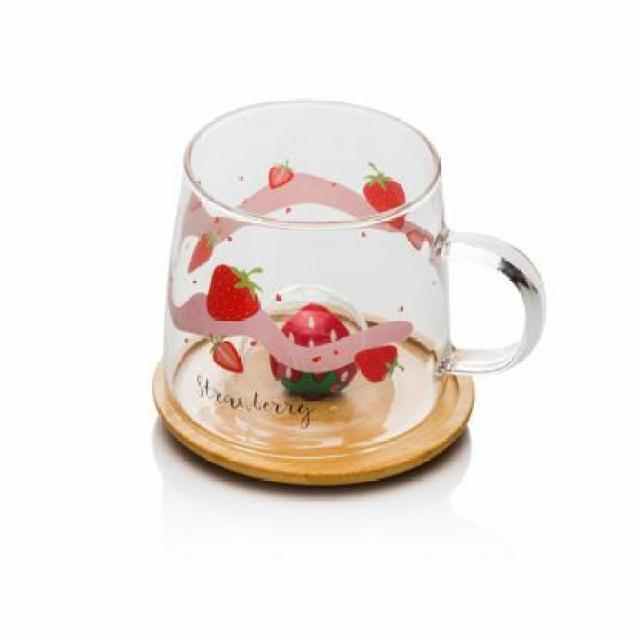taza: (142, 86, 554, 464)
